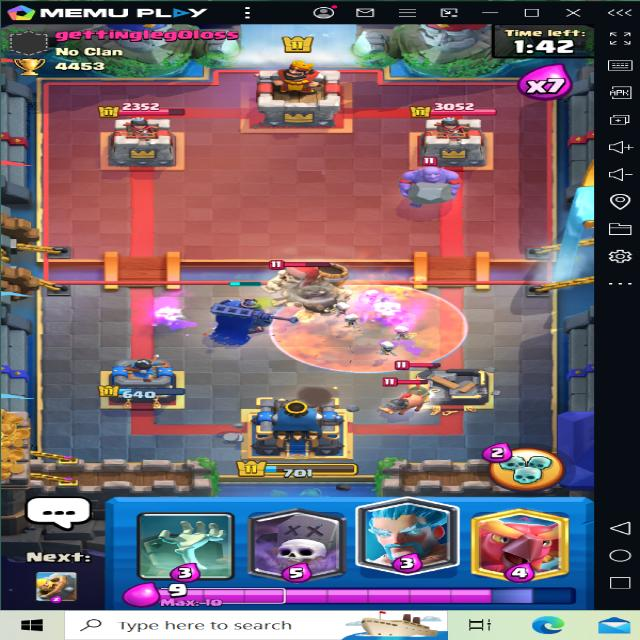bowler: (392, 154, 464, 206)
giant-skeleton: (236, 256, 349, 315)
royal-hogs: (396, 372, 445, 392), (384, 396, 428, 416)
